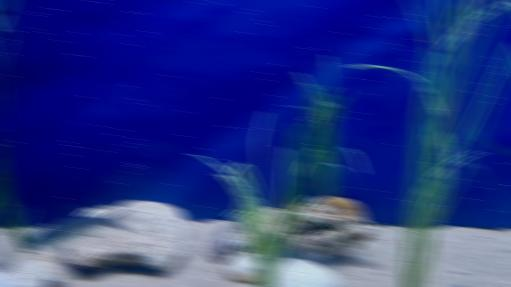Fish: (22, 209, 129, 252)
